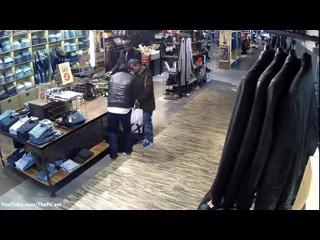Normal: (106, 40, 142, 76)
shoplifting: (106, 63, 137, 160), (128, 59, 156, 149)
